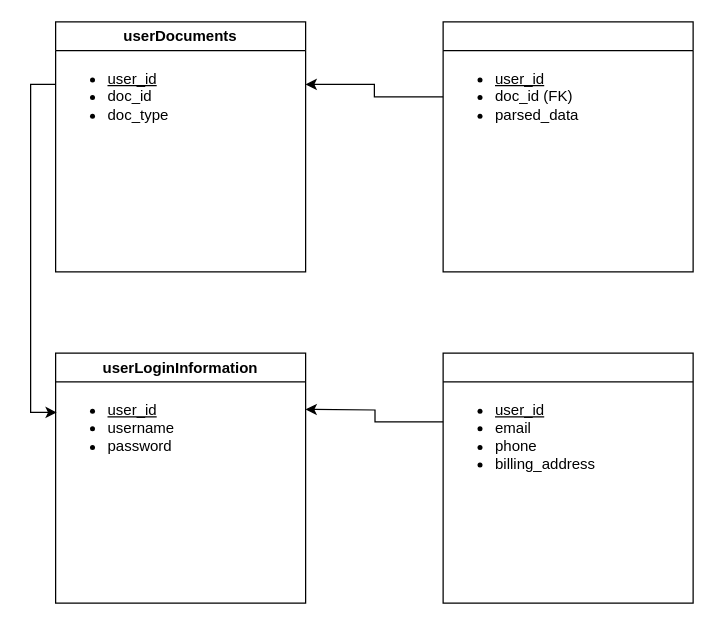
Some shapes in this 715 by 625 pixel diagram are drawn without their labels. Here are the shapes that lost their labels. From the top down, the box of each, then its label:
(442, 21, 693, 272): financialData
(442, 352, 693, 603): userInformation
